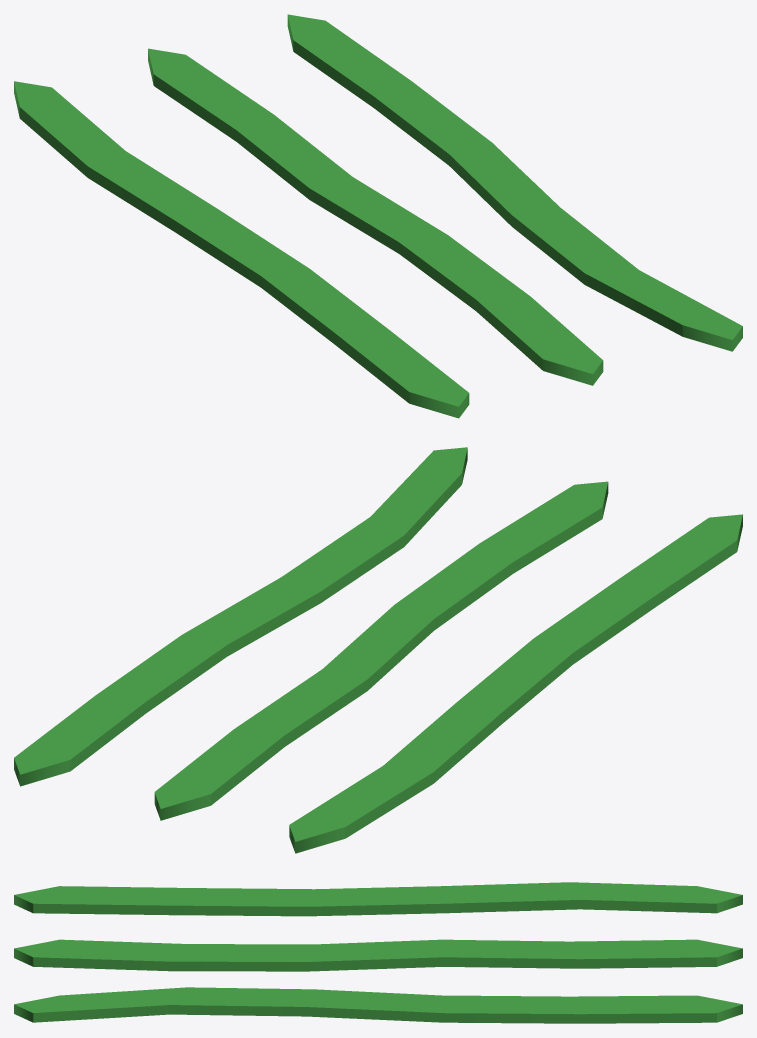
File: Rumput yang udh di cabut.fbx
3 views of the same model, one above another, from view 1: azimuth 30°, elevation 25°; view 2: azimuth 150°, elevation 25°; view 3: azimuth 270°, elevation 25° (orthographic). The views are drawn at different scales.
Parts seen in each view (by area): view 1: Box010; view 2: Box010; view 3: Box010.
Boxes of the visible parts, box(x1,y1,x2,y2) form: Box010: box(14, 14, 742, 418); Box010: box(14, 447, 742, 853); Box010: box(14, 882, 742, 1023).
Size of the model in its own units: 37.7 by 1.27 by 87.99.
